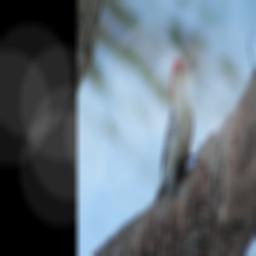Woodpecker: (154, 57, 199, 203)
